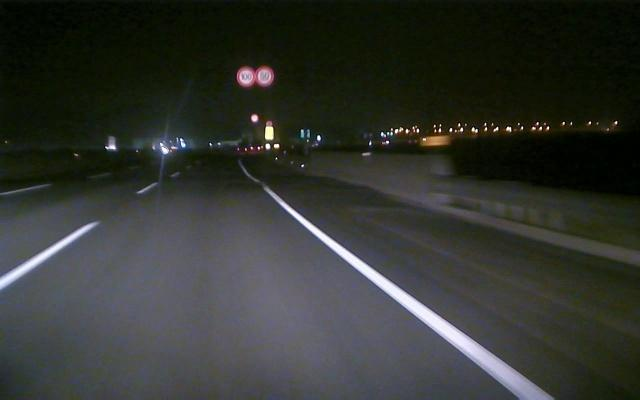lane: (257, 183, 556, 399), (2, 184, 155, 289), (0, 171, 114, 196)
